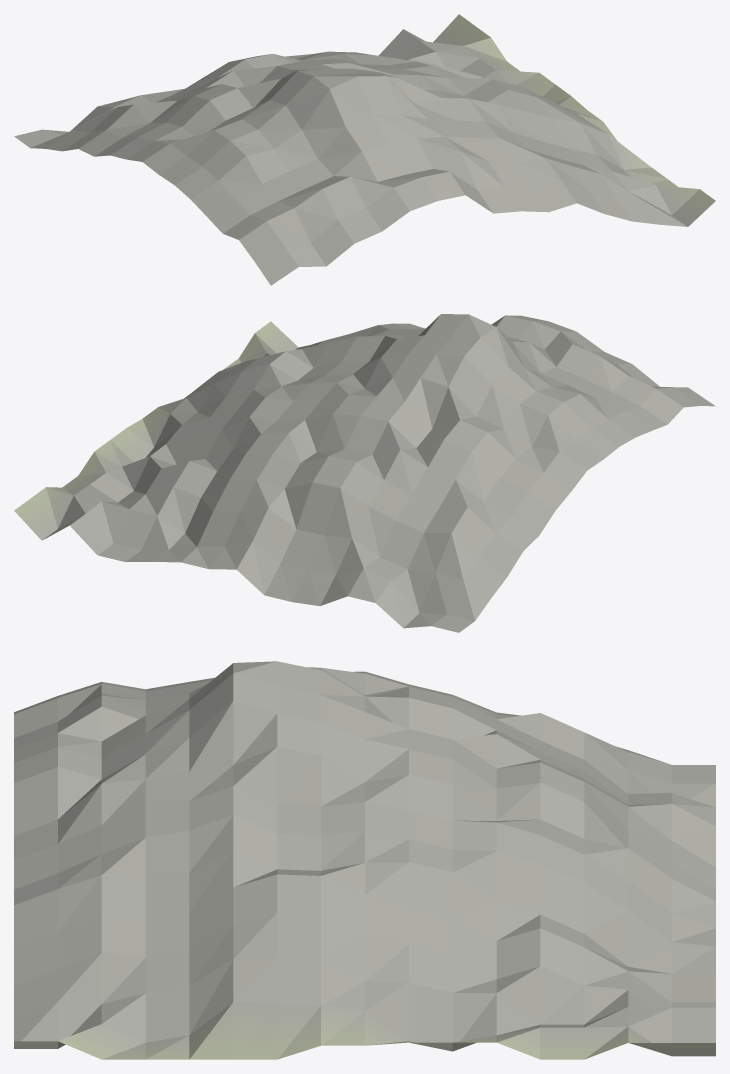
The picture shows the model from 3 angles, top to bottom: view 1: azimuth 30°, elevation 25°; view 2: azimuth 150°, elevation 25°; view 3: azimuth 270°, elevation 25°; orthographic projection. The views are drawn at different scales.
Bounding box in the file's own units: 32 × 10.94 × 32.
